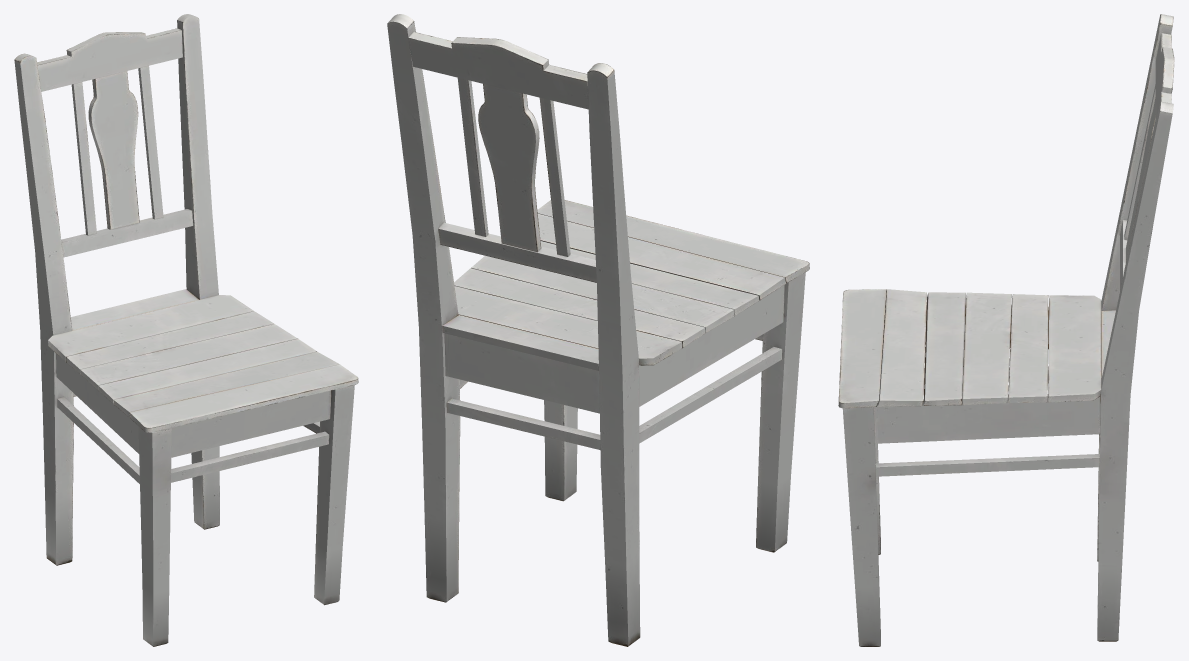
The model's file is painted_wooden_chair_01.glb.
3 renders of one model, left to right at view 1: azimuth 30°, elevation 25°; view 2: azimuth 150°, elevation 25°; view 3: azimuth 270°, elevation 25°, orthographic. The views are drawn at different scales.
Parts seen in each view (by area): view 1: painted_wooden_chair_01; view 2: painted_wooden_chair_01; view 3: painted_wooden_chair_01.
Boxes of the visible parts, left/top/right/bottom form: painted_wooden_chair_01: left=14, top=14, right=358, bottom=646; painted_wooden_chair_01: left=387, top=14, right=809, bottom=646; painted_wooden_chair_01: left=838, top=14, right=1174, bottom=646.
Size of the model in its own units: 0.4317 by 0.9565 by 0.5398.
Materials: 1 (1 with a texture image).
